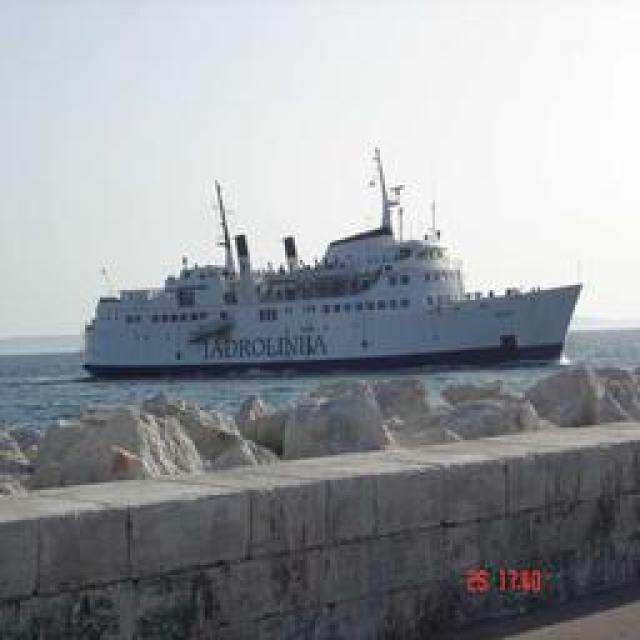Ship: (80, 141, 588, 381)
